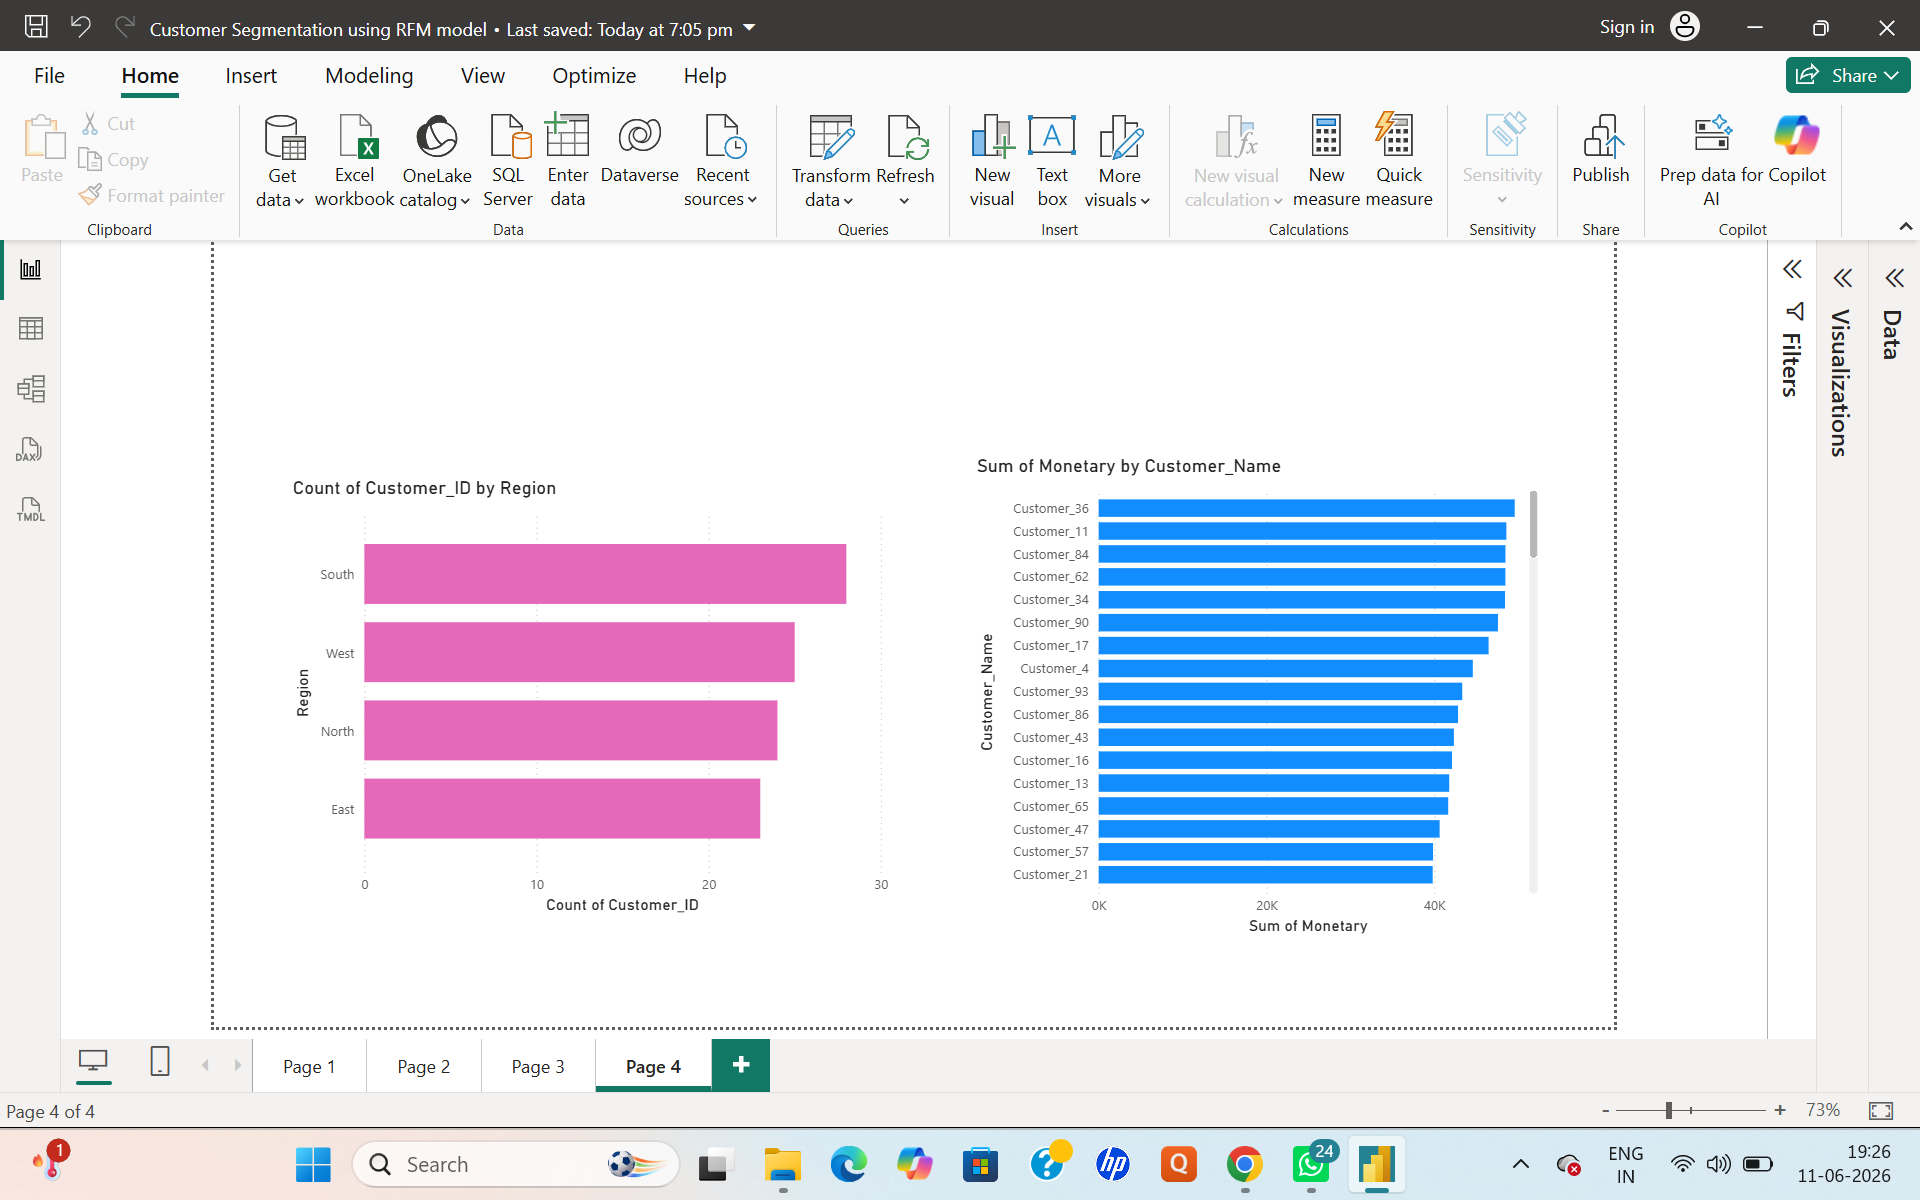

This screenshot's page, from the dashboard's own definition file:
{"tool":"powerbi","page":{"name":"Page 4","canvas":[1280,720],"ordinal":3},"visuals":[{"type":"barChart","fields":{"Category":["Customer_RFM_Dataset.Region"],"Y":["CountNonNull(Customer_RFM_Dataset.Customer_ID)"]},"box":[67.2,216.8,554.4,403.5],"z":0},{"type":"clusteredBarChart","fields":{"Category":["Customer_RFM_Dataset.Customer_Name"],"Y":["Sum(Customer_RFM_Dataset.Monetary)"]},"box":[693,196.2,522.9,443.3],"z":1}]}

Visuals, with their boxes on the page's 1280x720 design canvas (x1, y1, x2, y2). These are canvas units, not pixel positions in the 1920x1200 screenshot, which may show the page scaled, cropped or inside an application window:
barChart - Customer_RFM_Dataset.Region x CountNonNull(Customer_RFM_Dataset.Customer_ID): l=67, t=217, r=622, b=620
clusteredBarChart - Customer_RFM_Dataset.Customer_Name x Sum(Customer_RFM_Dataset.Monetary): l=693, t=196, r=1216, b=640
